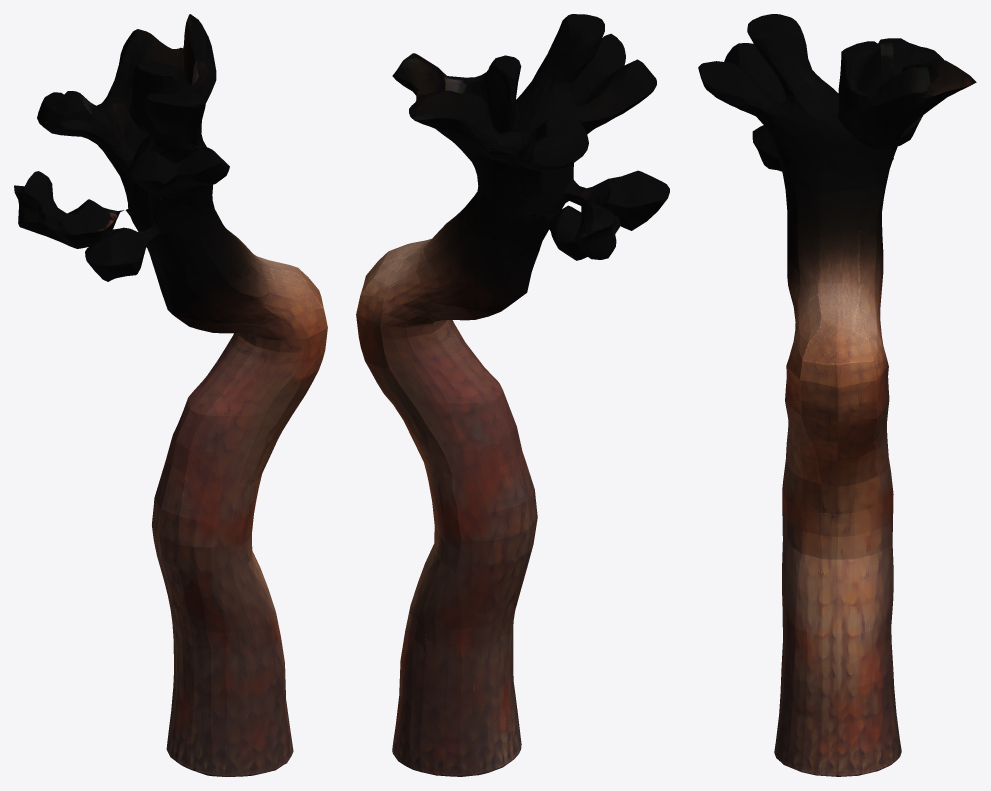
The model's file is veg_aleppo_pine_v1.glb.
3 renders of one model, left to right at view 1: azimuth 30°, elevation 25°; view 2: azimuth 150°, elevation 25°; view 3: azimuth 270°, elevation 25°, orthographic. The views are drawn at different scales.
Visible parts, largest first — view 1: world; view 2: world; view 3: world.
Part boxes in pixels (left/top/right/bottom): world: left=14, top=14, right=327, bottom=776; world: left=356, top=14, right=669, bottom=776; world: left=698, top=14, right=976, bottom=776.
Bounding box in the file's own units: 0.41 × 1 × 0.3679.
1 material, 1 textured.
